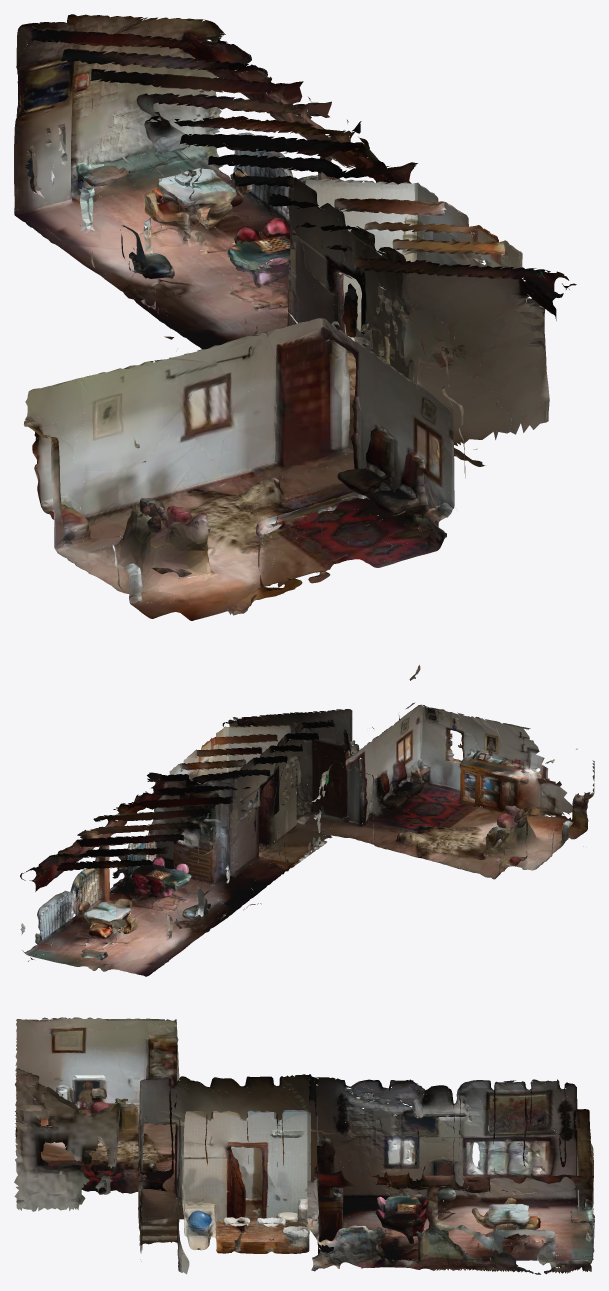
The model's file is esc_alta_muros_06.glb.
3 views of the same model, one above another, from view 1: azimuth 30°, elevation 25°; view 2: azimuth 150°, elevation 25°; view 3: azimuth 270°, elevation 25° (orthographic). The views are drawn at different scales.
Parts seen in each view (by area): view 1: muros_Salon_y_porche_6_GLTF_6, muros_Salon_y_porche_6_GLTF_12, muros_Salon_y_porche_6_GLTF_10, muros_Salon_y_porche_6_GLTF_2, muros_Salon_y_porche_6_GLTF_4, muros_Salon_y_porche_6_GLTF_9, muros_Salon_y_porche_6_GLTF_1, muros_Salon_y_porche_6_GLTF_8, muros_Salon_y_porche_6_GLTF_13, muros_Salon_y_porche_6_GLTF_11, muros_Salon_y_porche_6_GLTF_5, muros_Salon_y_porche_6_GLTF_3 (+2 smaller); view 2: muros_Salon_y_porche_6_GLTF_12, muros_Salon_y_porche_6_GLTF_13, muros_Salon_y_porche_6_GLTF_6, muros_Salon_y_porche_6_GLTF_10, muros_Salon_y_porche_6_GLTF_8, muros_Salon_y_porche_6_GLTF_5, muros_Salon_y_porche_6_GLTF_4, muros_Salon_y_porche_6_GLTF_11, muros_Salon_y_porche_6_GLTF_9, muros_Salon_y_porche_6_GLTF_2, muros_Salon_y_porche_6_GLTF, muros_Salon_y_porche_6_GLTF_3 (+2 smaller); view 3: muros_Salon_y_porche_6_GLTF_8, muros_Salon_y_porche_6_GLTF_12, muros_Salon_y_porche_6_GLTF_10, muros_Salon_y_porche_6_GLTF_2, muros_Salon_y_porche_6_GLTF_13, muros_Salon_y_porche_6_GLTF_11, muros_Salon_y_porche_6_GLTF, muros_Salon_y_porche_6_GLTF_5, muros_Salon_y_porche_6_GLTF_3, muros_Salon_y_porche_6_GLTF_4, muros_Salon_y_porche_6_GLTF_9, muros_Salon_y_porche_6_GLTF_6 (+2 smaller).
Part boxes in pixels (left/top/right/bottom): muros_Salon_y_porche_6_GLTF_6: left=71, top=38, right=549, bottom=620; muros_Salon_y_porche_6_GLTF_12: left=14, top=27, right=507, bottom=618; muros_Salon_y_porche_6_GLTF_10: left=15, top=14, right=498, bottom=603; muros_Salon_y_porche_6_GLTF_2: left=24, top=14, right=511, bottom=536; muros_Salon_y_porche_6_GLTF_4: left=14, top=95, right=473, bottom=618; muros_Salon_y_porche_6_GLTF_9: left=25, top=16, right=485, bottom=589; muros_Salon_y_porche_6_GLTF_1: left=34, top=74, right=569, bottom=615; muros_Salon_y_porche_6_GLTF_8: left=14, top=63, right=563, bottom=603; muros_Salon_y_porche_6_GLTF_13: left=26, top=32, right=542, bottom=547; muros_Salon_y_porche_6_GLTF_11: left=31, top=48, right=576, bottom=598; muros_Salon_y_porche_6_GLTF_5: left=67, top=35, right=563, bottom=593; muros_Salon_y_porche_6_GLTF_3: left=16, top=22, right=566, bottom=610; muros_Salon_y_porche_6_GLTF_12: left=30, top=703, right=572, bottom=976; muros_Salon_y_porche_6_GLTF_13: left=32, top=702, right=539, bottom=941; muros_Salon_y_porche_6_GLTF_6: left=37, top=704, right=588, bottom=960; muros_Salon_y_porche_6_GLTF_10: left=21, top=716, right=572, bottom=958; muros_Salon_y_porche_6_GLTF_8: left=87, top=720, right=573, bottom=974; muros_Salon_y_porche_6_GLTF_5: left=22, top=709, right=562, bottom=964; muros_Salon_y_porche_6_GLTF_4: left=20, top=711, right=594, bottom=942; muros_Salon_y_porche_6_GLTF_11: left=79, top=717, right=558, bottom=940; muros_Salon_y_porche_6_GLTF_9: left=20, top=721, right=569, bottom=966; muros_Salon_y_porche_6_GLTF_2: left=28, top=750, right=583, bottom=967; muros_Salon_y_porche_6_GLTF: left=35, top=675, right=529, bottom=937; muros_Salon_y_porche_6_GLTF_3: left=21, top=665, right=561, bottom=961; muros_Salon_y_porche_6_GLTF_8: left=14, top=1019, right=582, bottom=1248; muros_Salon_y_porche_6_GLTF_12: left=15, top=1070, right=594, bottom=1273; muros_Salon_y_porche_6_GLTF_10: left=57, top=1034, right=593, bottom=1262; muros_Salon_y_porche_6_GLTF_2: left=77, top=1027, right=593, bottom=1274; muros_Salon_y_porche_6_GLTF_13: left=15, top=1078, right=592, bottom=1268; muros_Salon_y_porche_6_GLTF_11: left=16, top=1076, right=542, bottom=1268; muros_Salon_y_porche_6_GLTF: left=16, top=1017, right=580, bottom=1266; muros_Salon_y_porche_6_GLTF_5: left=39, top=1044, right=592, bottom=1274; muros_Salon_y_porche_6_GLTF_3: left=18, top=1018, right=594, bottom=1274; muros_Salon_y_porche_6_GLTF_4: left=15, top=1019, right=593, bottom=1270; muros_Salon_y_porche_6_GLTF_9: left=67, top=1018, right=593, bottom=1271; muros_Salon_y_porche_6_GLTF_6: left=16, top=1076, right=592, bottom=1270.
Size of the model in its own units: 9.35 by 3.78 by 14.01.
Materials: 14 (14 with a texture image).
